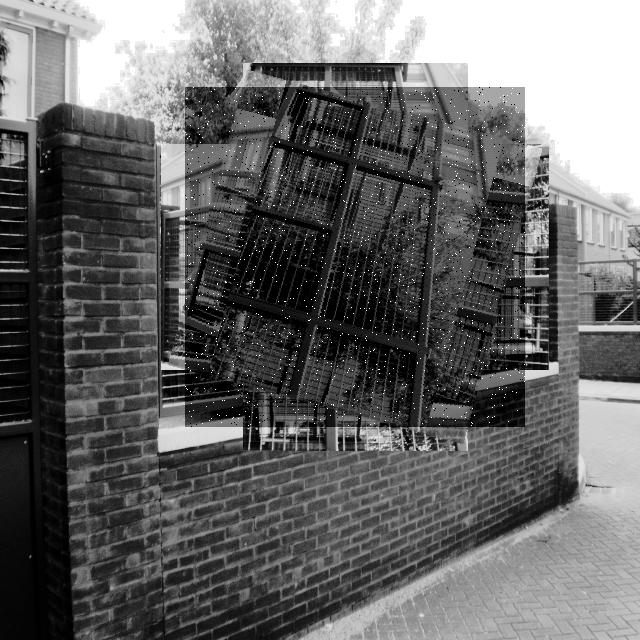fences: (185, 87, 525, 427)
